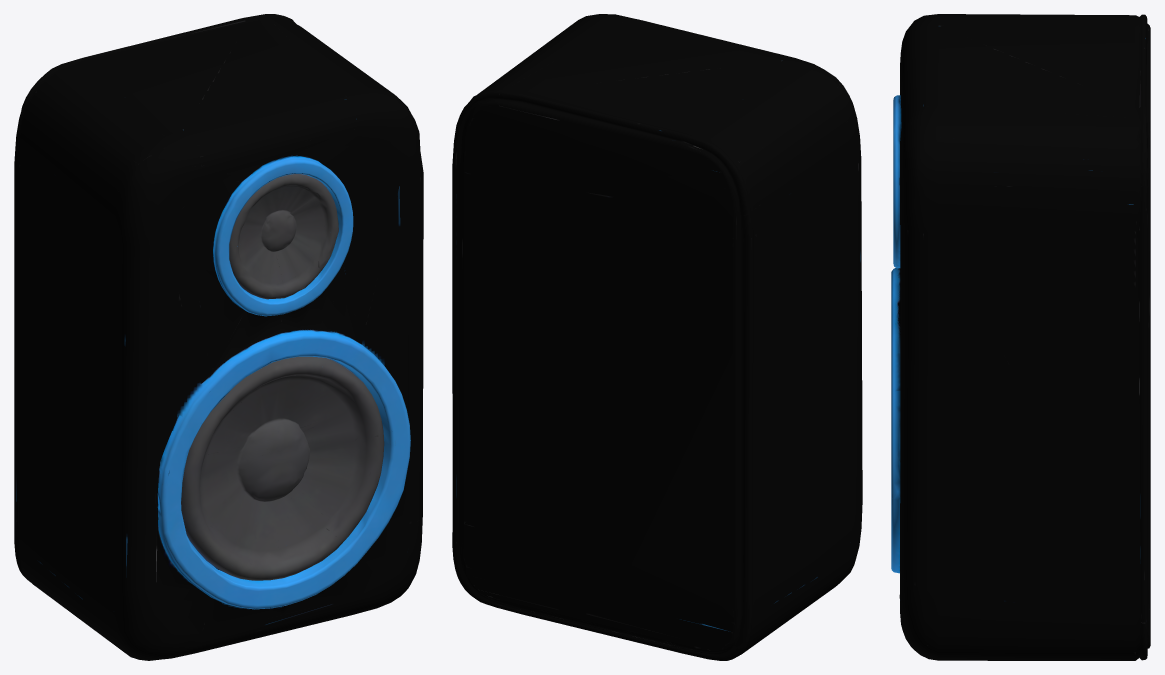
File: dance_speaker.glb
The picture shows the model from 3 angles, left to right: view 1: azimuth 30°, elevation 25°; view 2: azimuth 150°, elevation 25°; view 3: azimuth 270°, elevation 25°; orthographic projection. The views are drawn at different scales.
Parts seen in each view (by area): view 1: geometry_0; view 2: geometry_0; view 3: geometry_0.
Boxes of the visible parts, bbox=[...] form: geometry_0: bbox=[14, 14, 423, 660]; geometry_0: bbox=[452, 14, 862, 660]; geometry_0: bbox=[891, 14, 1150, 660].
Size of the model in its own units: 0.5728 by 0.9497 by 0.4175.
Materials: 1 (1 with a texture image).
